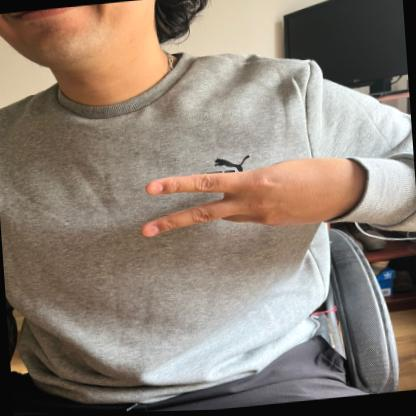H: (137, 148, 374, 254)
